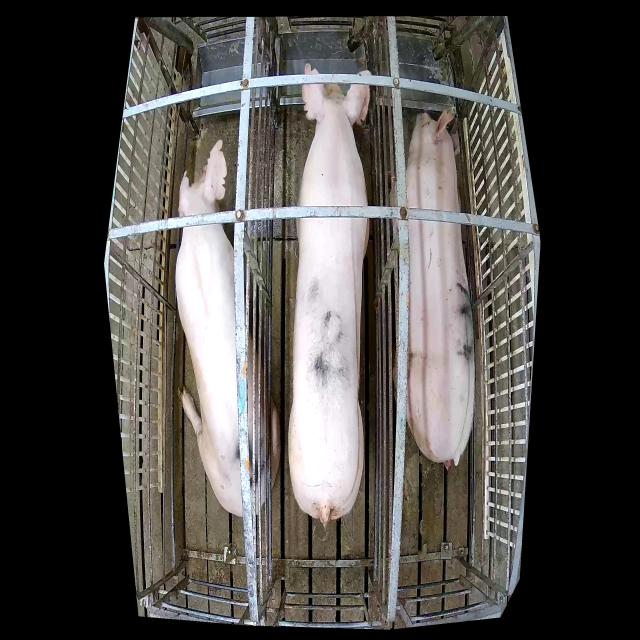pig: (175, 139, 280, 516), (288, 63, 372, 529), (389, 104, 475, 470)
